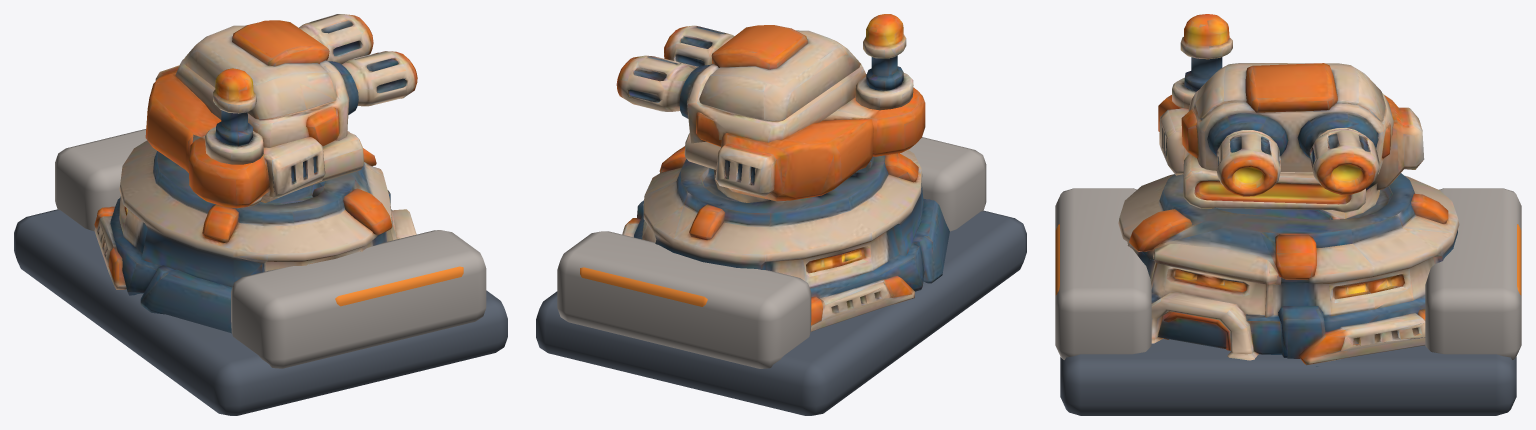
Rendered from struct_steel_outpost.glb.
3 renders of one model, left to right at view 1: azimuth 30°, elevation 25°; view 2: azimuth 150°, elevation 25°; view 3: azimuth 270°, elevation 25°, orthographic. The views are drawn at different scales.
Parts seen in each view (by area): view 1: tripo_node_48b0b5ff-a824-4ebf-9876-6351481dd705, Outpost silhouette details; view 2: tripo_node_48b0b5ff-a824-4ebf-9876-6351481dd705, Outpost silhouette details; view 3: tripo_node_48b0b5ff-a824-4ebf-9876-6351481dd705, Outpost silhouette details.
Boxes of the visible parts, x1,y1,x2,y2 form: tripo_node_48b0b5ff-a824-4ebf-9876-6351481dd705: [94, 14, 417, 333]; Outpost silhouette details: [14, 129, 507, 415]; tripo_node_48b0b5ff-a824-4ebf-9876-6351481dd705: [616, 14, 949, 331]; Outpost silhouette details: [536, 137, 1026, 415]; tripo_node_48b0b5ff-a824-4ebf-9876-6351481dd705: [1118, 14, 1459, 366]; Outpost silhouette details: [1055, 188, 1521, 415].
Bounding box in the file's own units: 0.9 × 0.84 × 1.18.
Materials: 4 (1 with a texture image).
